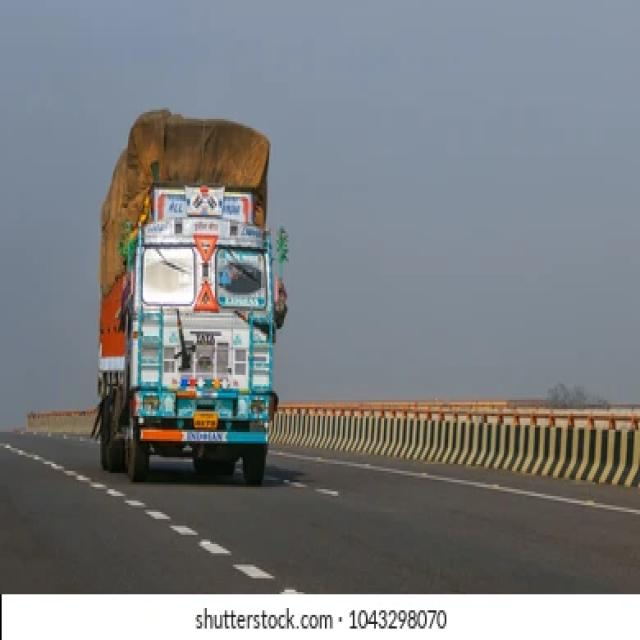Vehicles: (87, 90, 315, 502)
